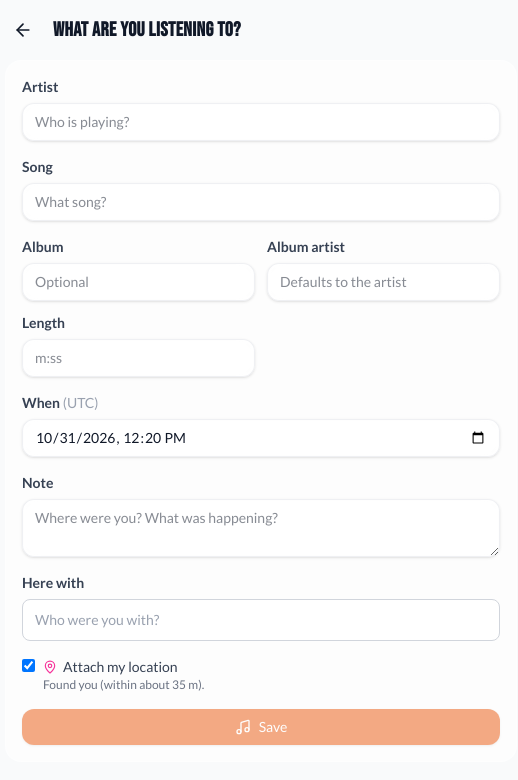
MusicCheckInForm › offers your songs and the catalog as you type, and fills every field from a pick
The image size is (518, 780).
Type "sun" into the dropdown labelled "Song" at (261, 202), box [22, 183, 500, 221]
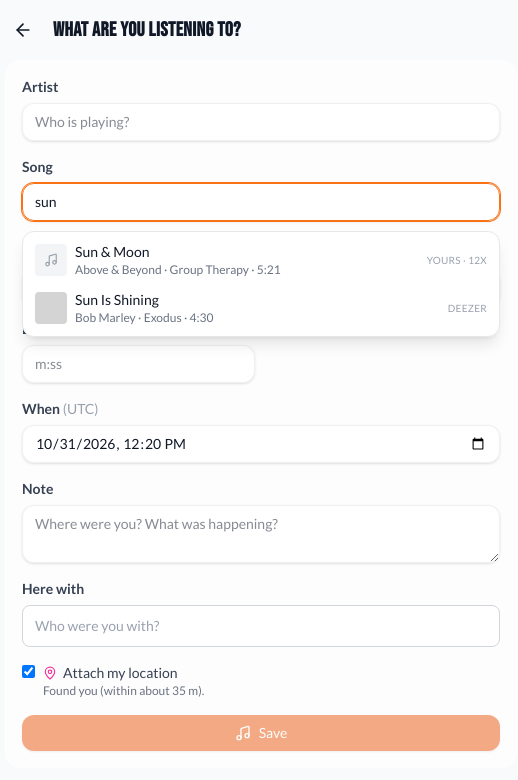
Check: the option "Sun & Moon Above & Beyond · Group Therapy · 5:21 Yours · 12x" is shown, box [23, 236, 499, 284]
Check: the option "Sun Is Shining Bob Marley · Exodus · 4:30 Deezer" is shown
Click the option "Sun Is Shining Bob Marley · Exodus · 4:30 Deezer" at (51, 308), box [23, 284, 499, 332]
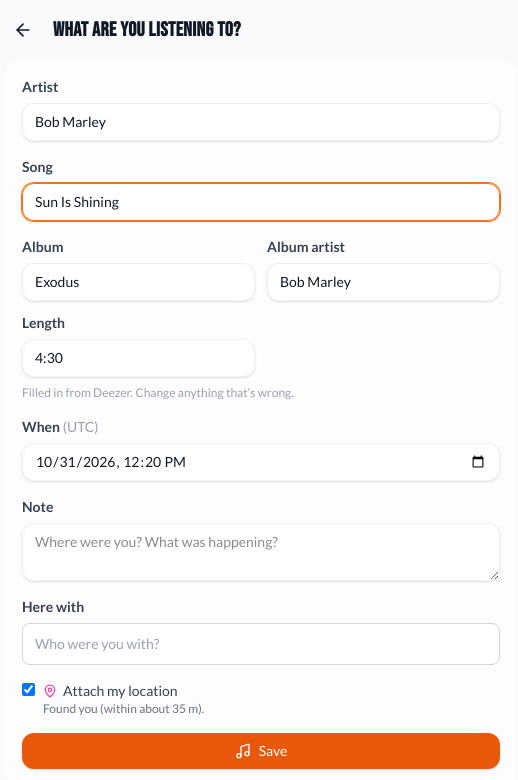
Check: the dropdown labelled "Artist" holds "Bob Marley", box [22, 103, 500, 141]
Check: the dropdown labelled "Song" holds "Sun Is Shining", box [22, 183, 500, 221]
Check: the field labelled "Album" holds "Exodus", box [22, 263, 255, 301]
